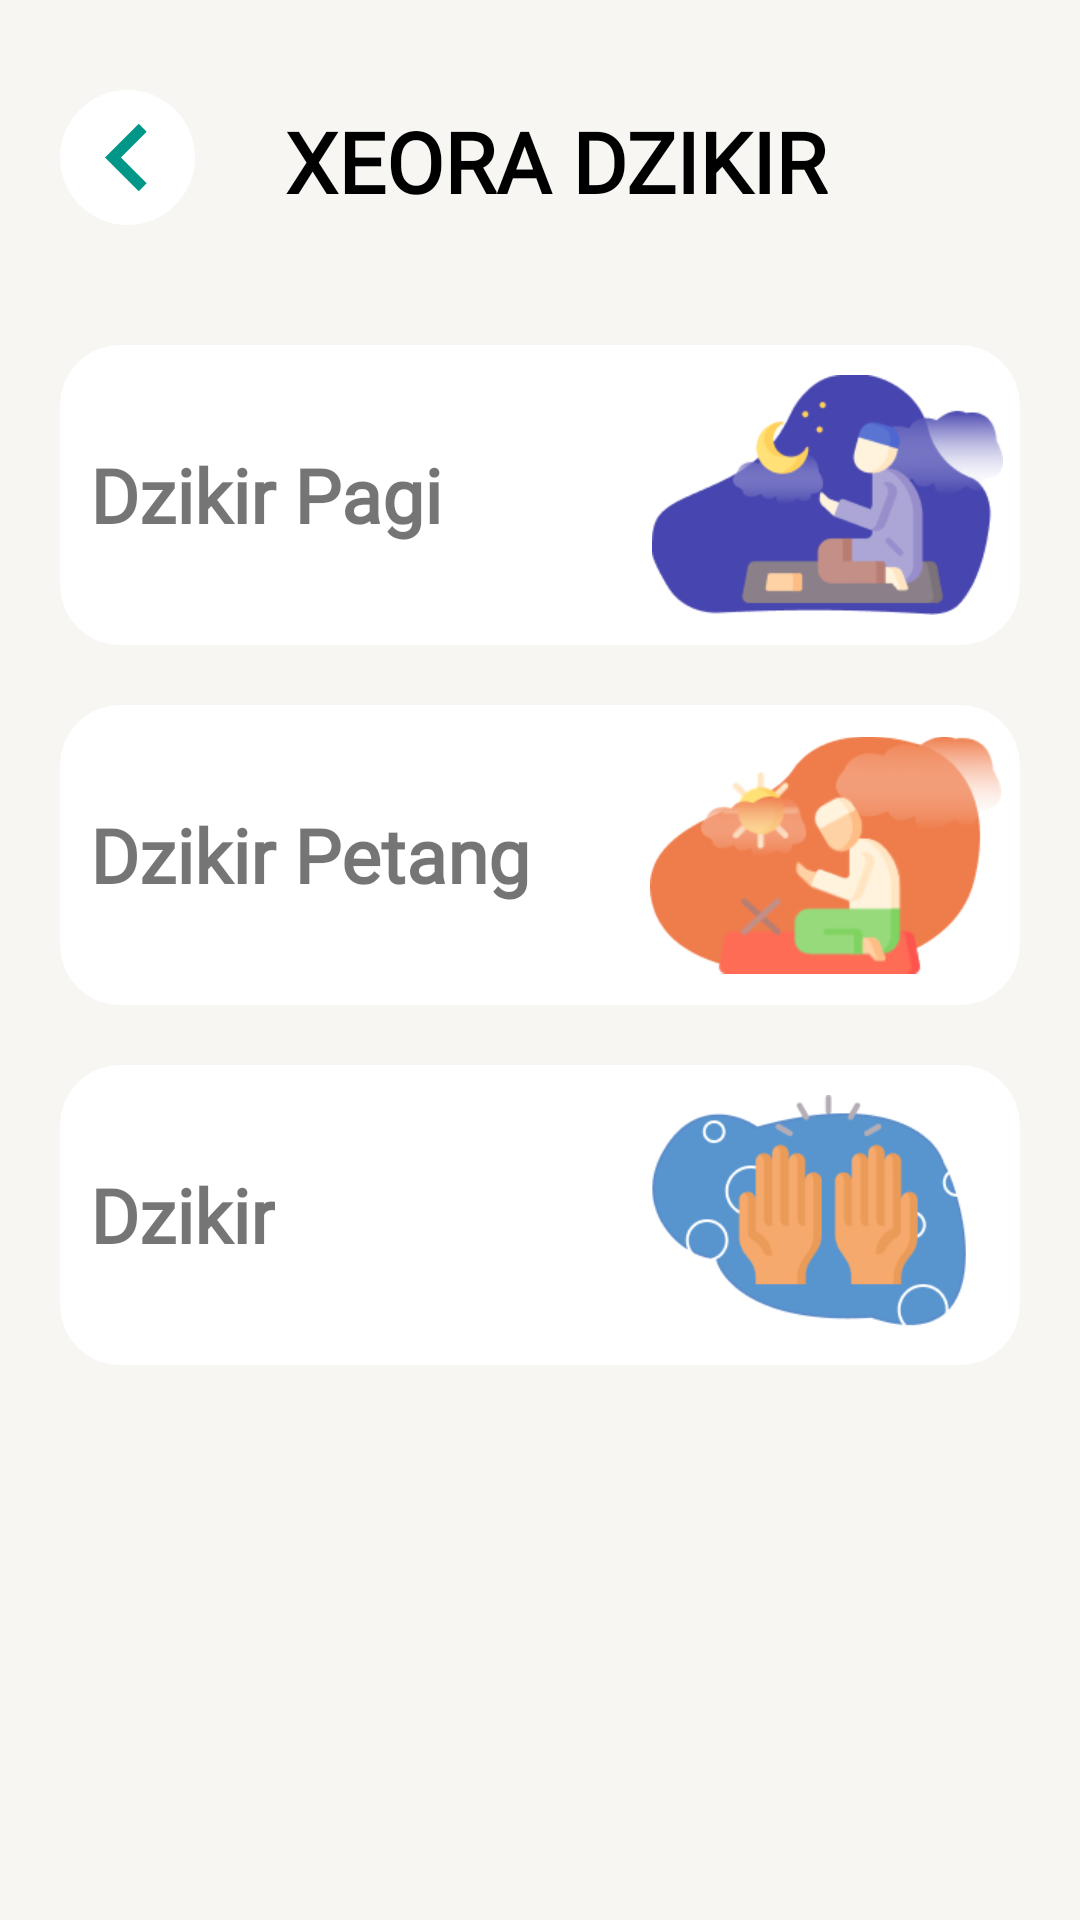

Named icons in this screenshot (1080 x 1920) and their centers, (x=x, y=y):
dzipagi: (x=827, y=495)
dzipetang: (x=825, y=855)
